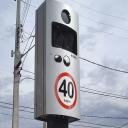speed_limit_40: (54, 70, 78, 110)
